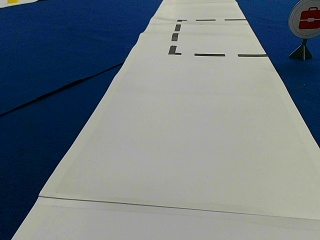company: (288, 0, 319, 37)
